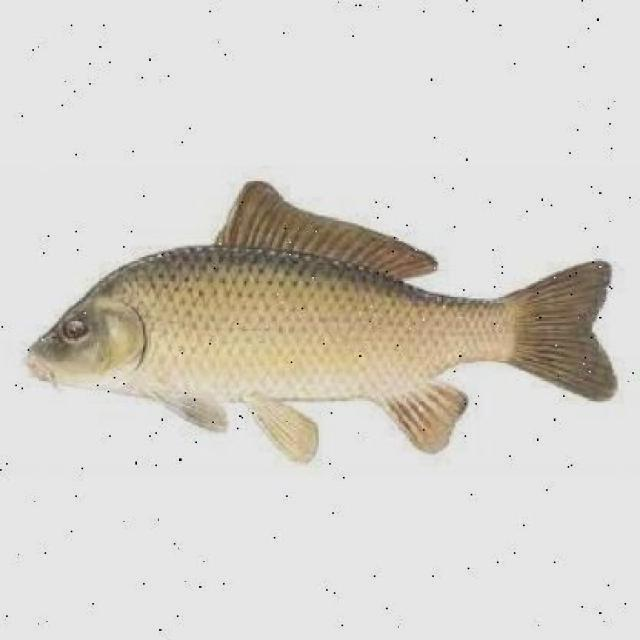ikan-mas: (27, 200, 622, 428)
